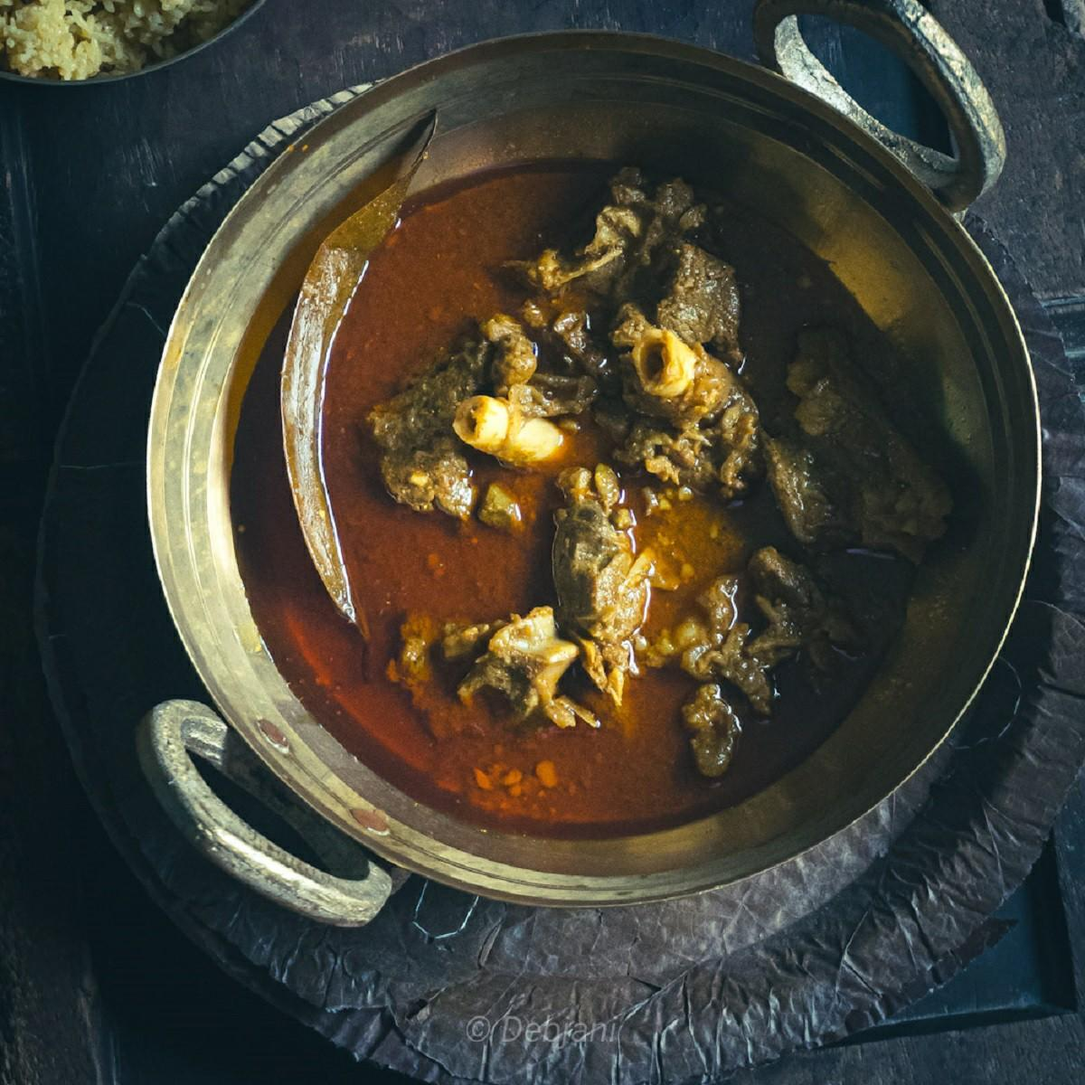MuttonCurry: (238, 149, 951, 831)
